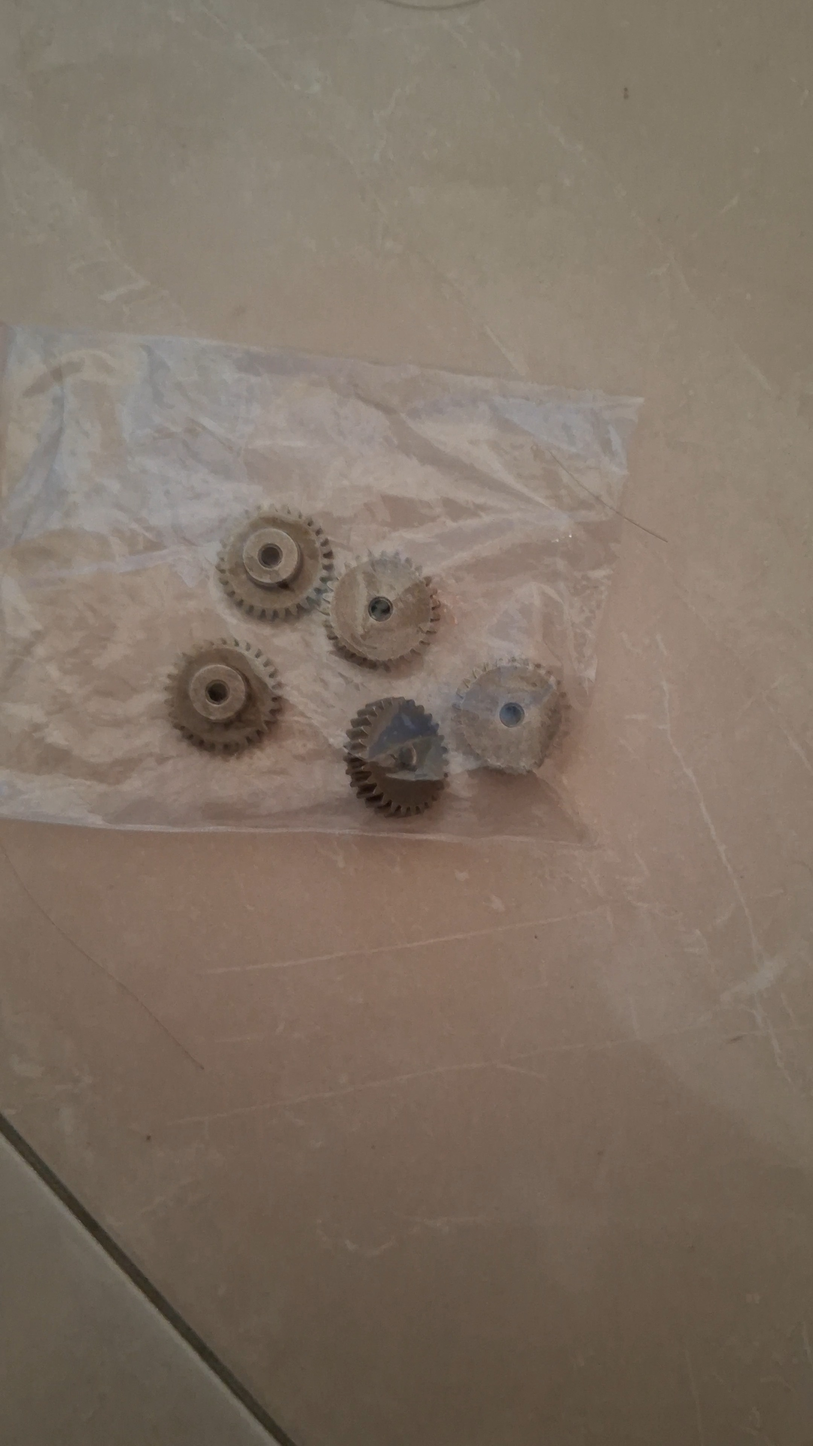spur gear: (167, 640, 281, 752), (454, 659, 566, 773), (324, 554, 439, 665), (217, 509, 333, 619), (346, 697, 446, 815)
